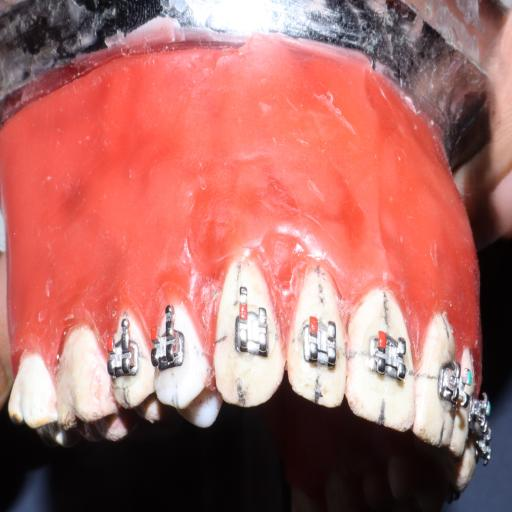incorrect_brace: (230, 302, 271, 357)
